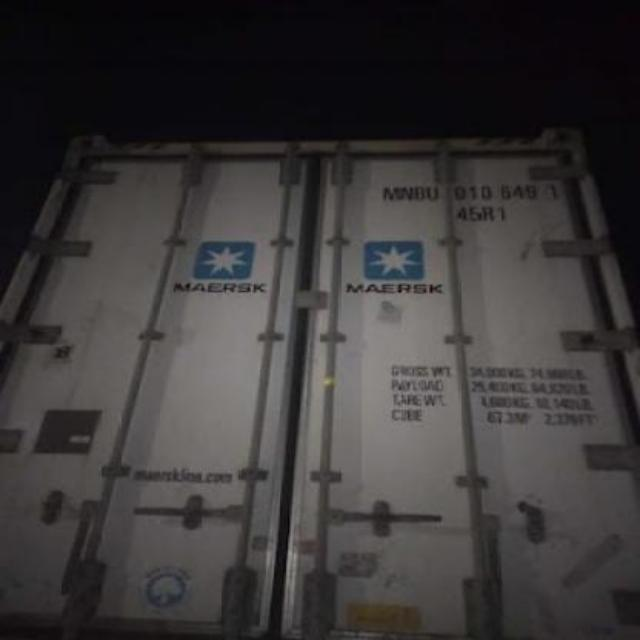0: (478, 176, 494, 202), (452, 178, 466, 202)
1: (544, 180, 560, 202), (468, 178, 480, 204)
4: (512, 175, 526, 205)
6: (498, 174, 512, 203)
9: (524, 174, 540, 206)
B: (412, 179, 426, 205)
M: (378, 180, 399, 202)
N: (400, 179, 412, 205)
U: (424, 178, 442, 206)
